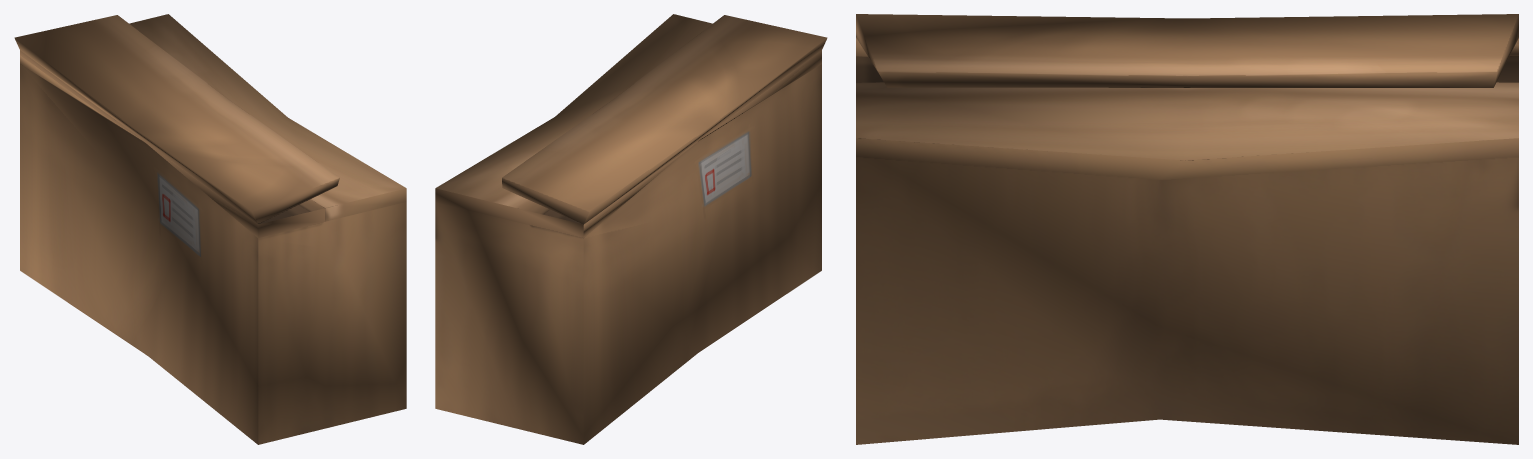
File: long_box1.fbx
The picture shows the model from 3 angles, left to right: view 1: azimuth 30°, elevation 25°; view 2: azimuth 150°, elevation 25°; view 3: azimuth 270°, elevation 25°; orthographic projection. The views are drawn at different scales.
Visible parts, largest first — view 1: cardboard_box_2; view 2: cardboard_box_2; view 3: cardboard_box_2.
Part boxes in pixels (x1,y1,x2,y2): cardboard_box_2: (14,14,406,444); cardboard_box_2: (435,14,827,444); cardboard_box_2: (856,14,1518,444).
Size of the model in its own units: 56.18 by 83.41 by 150.
1 material, 1 textured.
